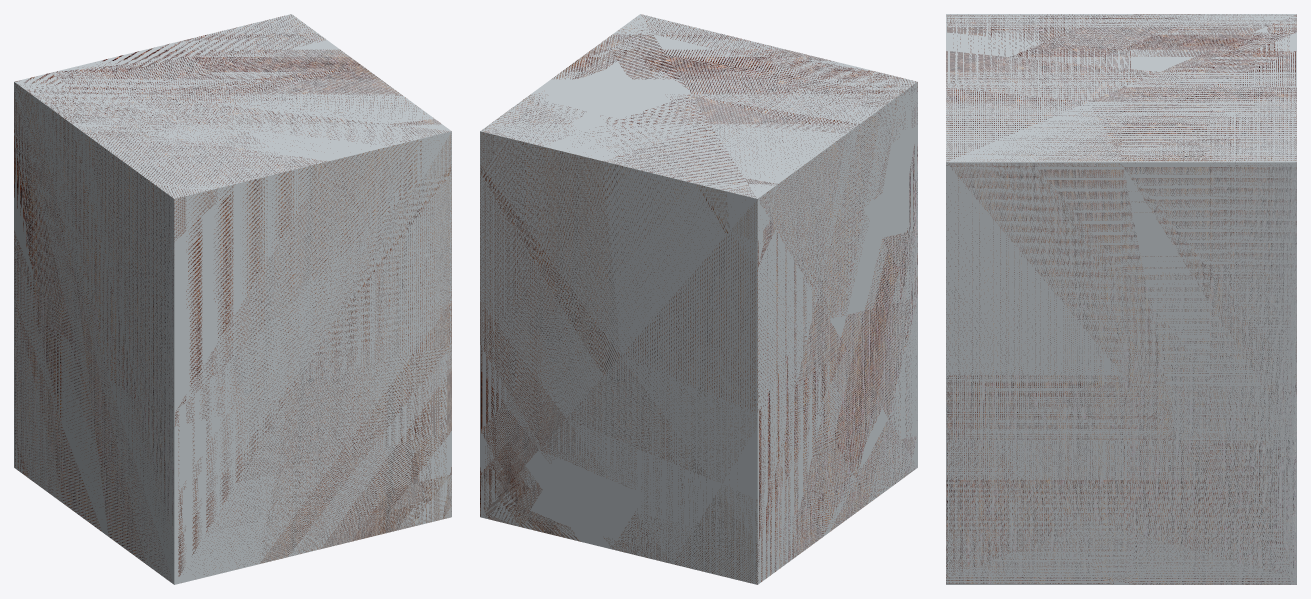
File: cengal.glb
3 renders of one model, left to right at view 1: azimuth 30°, elevation 25°; view 2: azimuth 150°, elevation 25°; view 3: azimuth 270°, elevation 25°, orthographic. The views are drawn at different scales.
Parts seen in each view (by area): view 1: BackSide, FrontSide; view 2: BackSide, FrontSide; view 3: BackSide, FrontSide.
Boxes of the visible parts, box(x1,y1,x2,y2) form: BackSide: box(14, 14, 451, 584); FrontSide: box(14, 14, 451, 583); BackSide: box(480, 14, 917, 584); FrontSide: box(480, 15, 917, 583); BackSide: box(946, 14, 1296, 584); FrontSide: box(946, 14, 1296, 584).
Size of the model in its own units: 2.8 by 3.72 by 2.8.
5 materials, 4 textured.
